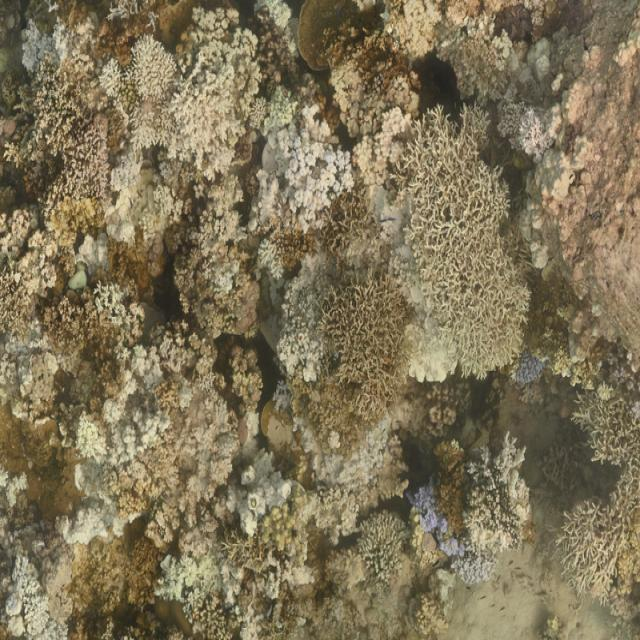Bleached Coral: (269, 121, 349, 223), (413, 485, 465, 577), (132, 35, 182, 113)
